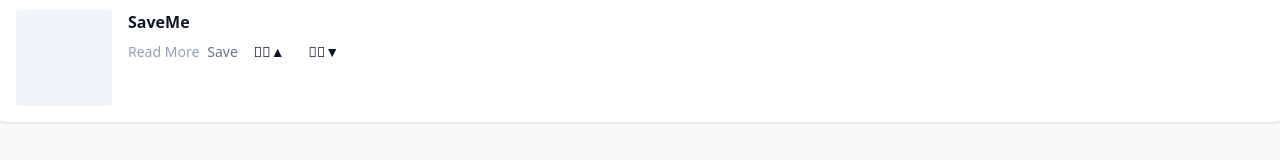
Test: save toggles favorite
Click the button with aria-label "Save SaveMe".
click(223, 52)  # box [207,42,238,62]
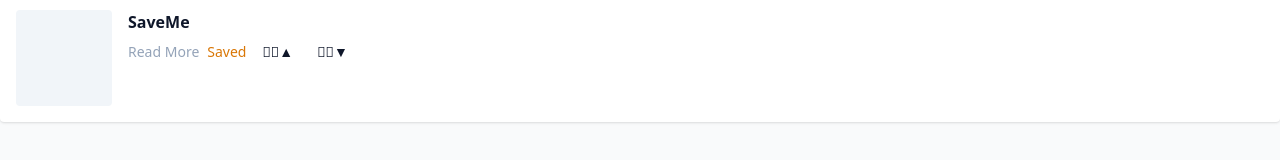
Expected: the button "Saved" is shown, [207,42,246,62]
